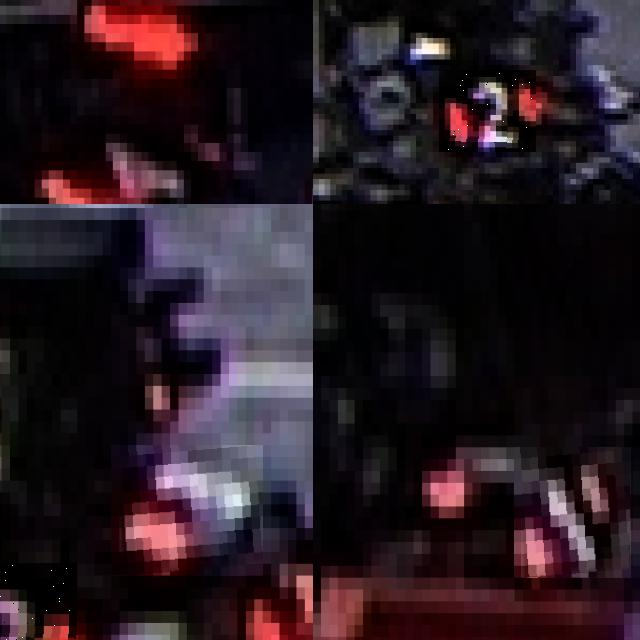R1: (514, 447, 632, 578)
R2: (439, 70, 536, 152)
R3: (111, 445, 263, 576), (0, 563, 77, 640)
